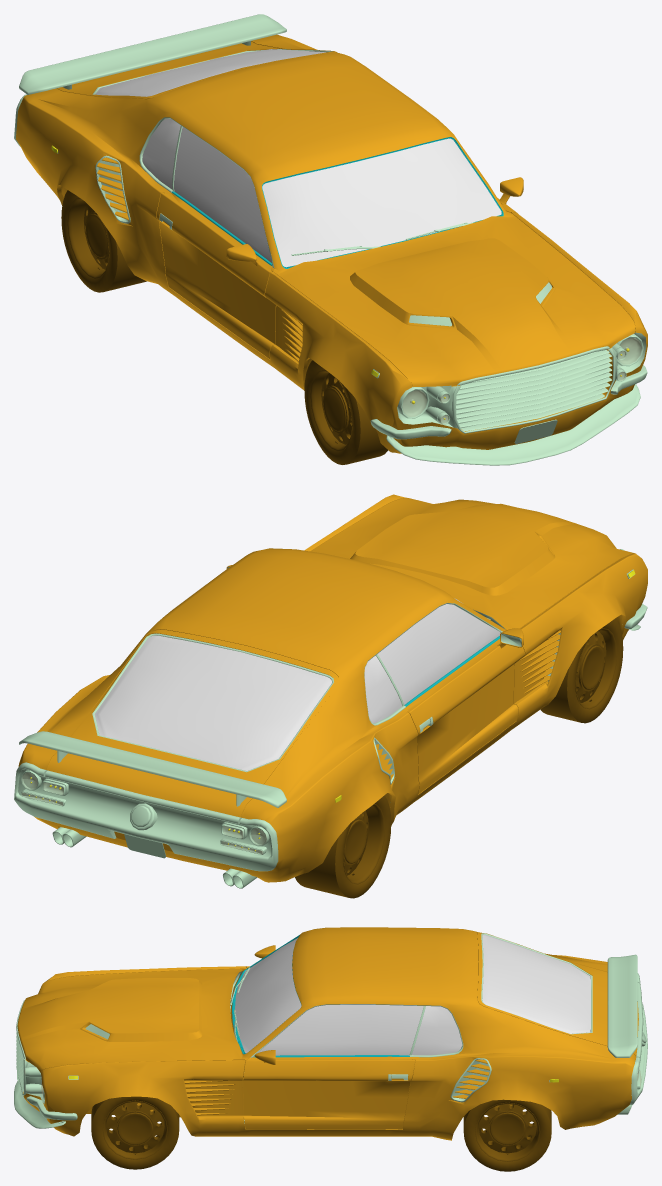
Rendered from Racing_Car.fbx.
3 views of the same model, one above another, from view 1: azimuth 30°, elevation 25°; view 2: azimuth 150°, elevation 25°; view 3: azimuth 270°, elevation 25° (orthographic). The views are drawn at different scales.
Parts seen in each view (by area): view 1: Racing_Car, Racing_Car_Door_R, Racing_Car_Glass_R, Racing_Car_Wheel_1, Racing_Car_4; view 2: Racing_Car, Racing_Car_Door_R, Racing_Car_Glass_R, Racing_Car_4, Racing_Car_Wheel_1; view 3: Racing_Car, Racing_Car_Door_L, Racing_Car_Glass_L, Racing_Car_Wheel_1_2, Racing_Car_3.
Part boxes in pixels (x1=…): Racing_Car: x1=14, y1=14, x2=647, y2=465; Racing_Car_Door_R: x1=157, y1=191, x2=276, y2=359; Racing_Car_Glass_R: x1=174, y1=127, x2=271, y2=262; Racing_Car_Wheel_1: x1=304, y1=360, x2=388, y2=464; Racing_Car_4: x1=61, y1=190, x2=146, y2=292; Racing_Car: x1=14, y1=494, x2=647, y2=888; Racing_Car_Door_R: x1=404, y1=628, x2=525, y2=793; Racing_Car_Glass_R: x1=377, y1=604, x2=500, y2=704; Racing_Car_4: x1=295, y1=795, x2=391, y2=898; Racing_Car_Wheel_1: x1=540, y1=618, x2=623, y2=723; Racing_Car: x1=14, y1=927, x2=647, y2=1140; Racing_Car_Door_L: x1=243, y1=1050, x2=415, y2=1129; Racing_Car_Glass_L: x1=257, y1=1004, x2=423, y2=1055; Racing_Car_Wheel_1_2: x1=91, y1=1096, x2=179, y2=1169; Racing_Car_3: x1=463, y1=1099, x2=551, y2=1171.
Bounding box in the file's own units: 209 × 136 × 475.
